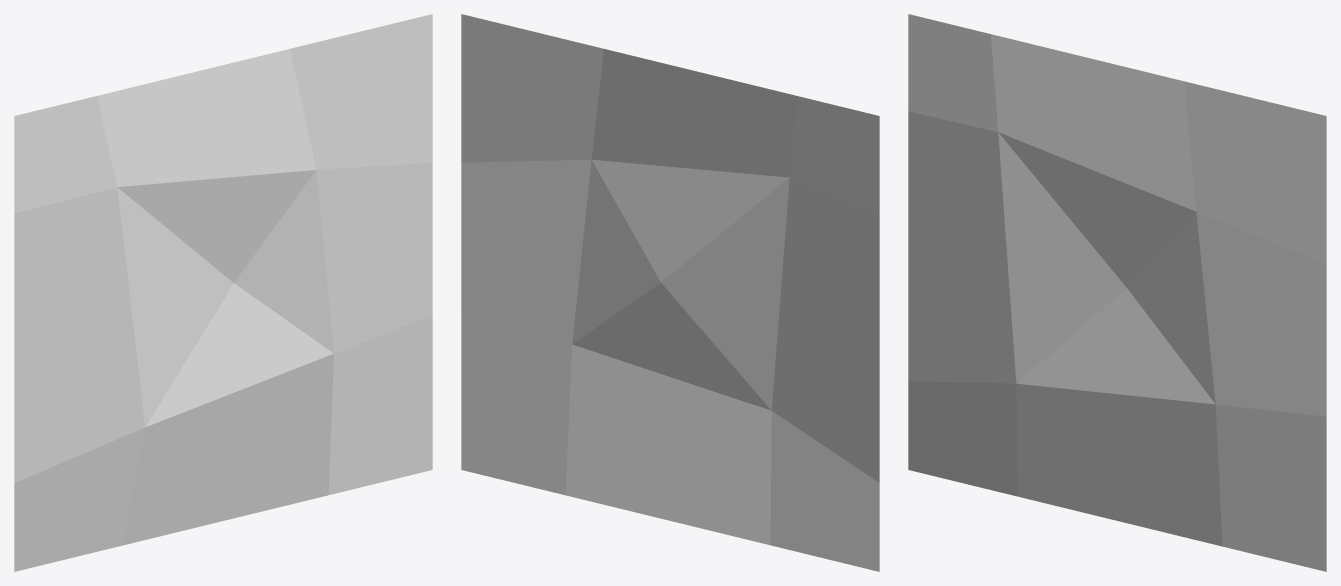
The model's file is SM_Env_Ivy_03.glb.
3 renders of one model, left to right at view 1: azimuth 30°, elevation 25°; view 2: azimuth 150°, elevation 25°; view 3: azimuth 330°, elevation 25°, orthographic.
Parts seen in each view (by area): view 1: SM_Env_Ivy_03; view 2: SM_Env_Ivy_03; view 3: SM_Env_Ivy_03.
Part boxes in pixels (<box>): SM_Env_Ivy_03: <box>14,14,432,571</box>; SM_Env_Ivy_03: <box>461,14,879,571</box>; SM_Env_Ivy_03: <box>908,14,1326,571</box>.
Size of the model in its own units: 1.57 by 1.63 by 0.0742.
1 material, 1 textured.
